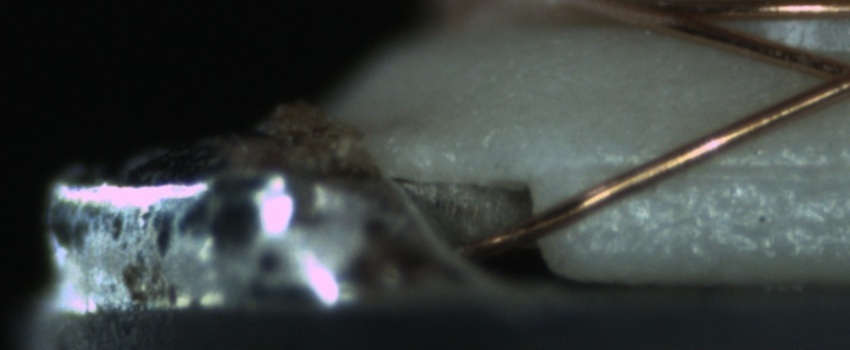CL: (797, 47, 850, 105)
DL: (576, 135, 845, 198)
